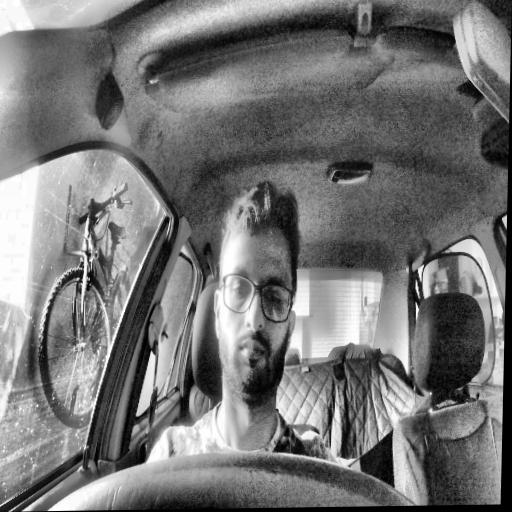awake: (209, 184, 301, 406)
